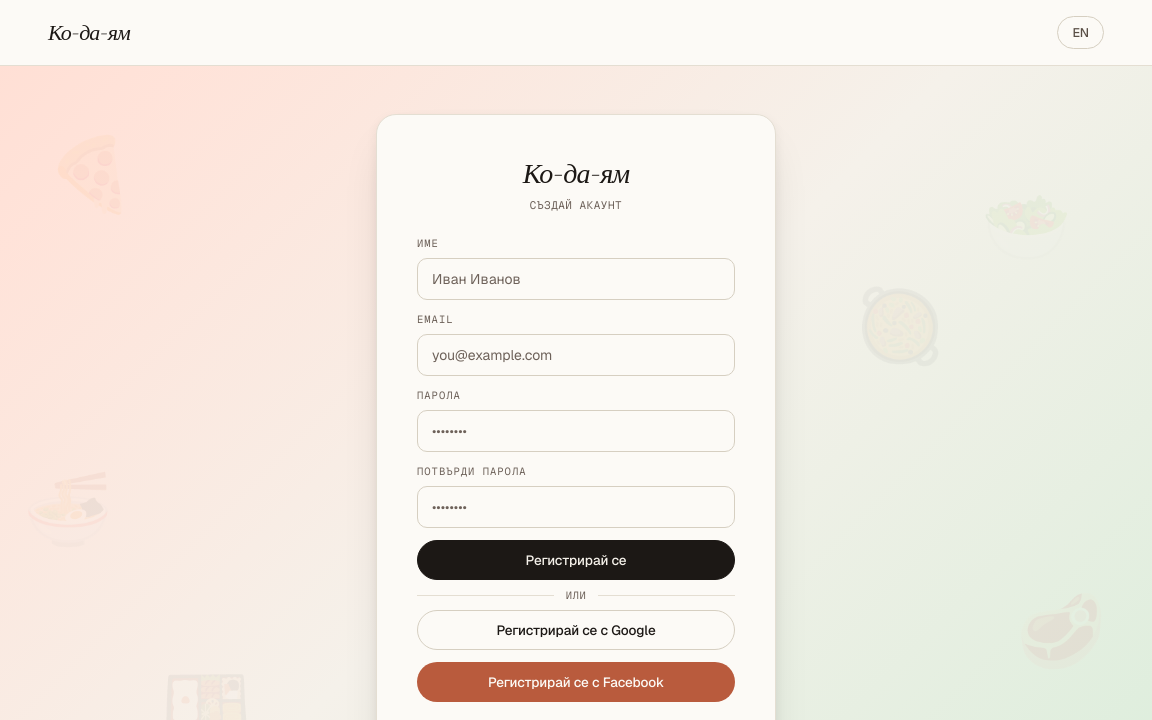
Scenario: RegisterScreen › shows confirmation screen when signUp returns no session (email confirmation required)
Step 1. Type "Иван" into the field with placeholder "Иван Иванов" → (576, 279), box [417,258,735,300]
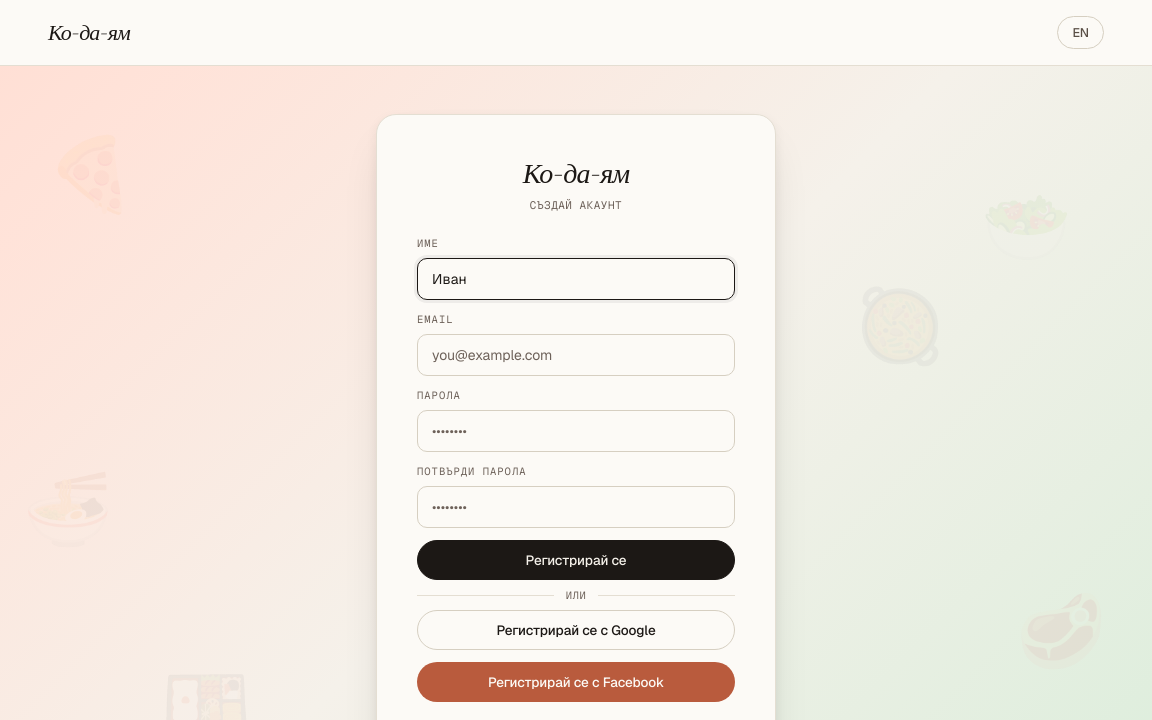
Step 2. Type "test@test.com" into the field with placeholder "you@example.com" → (576, 355), box [417,334,735,376]
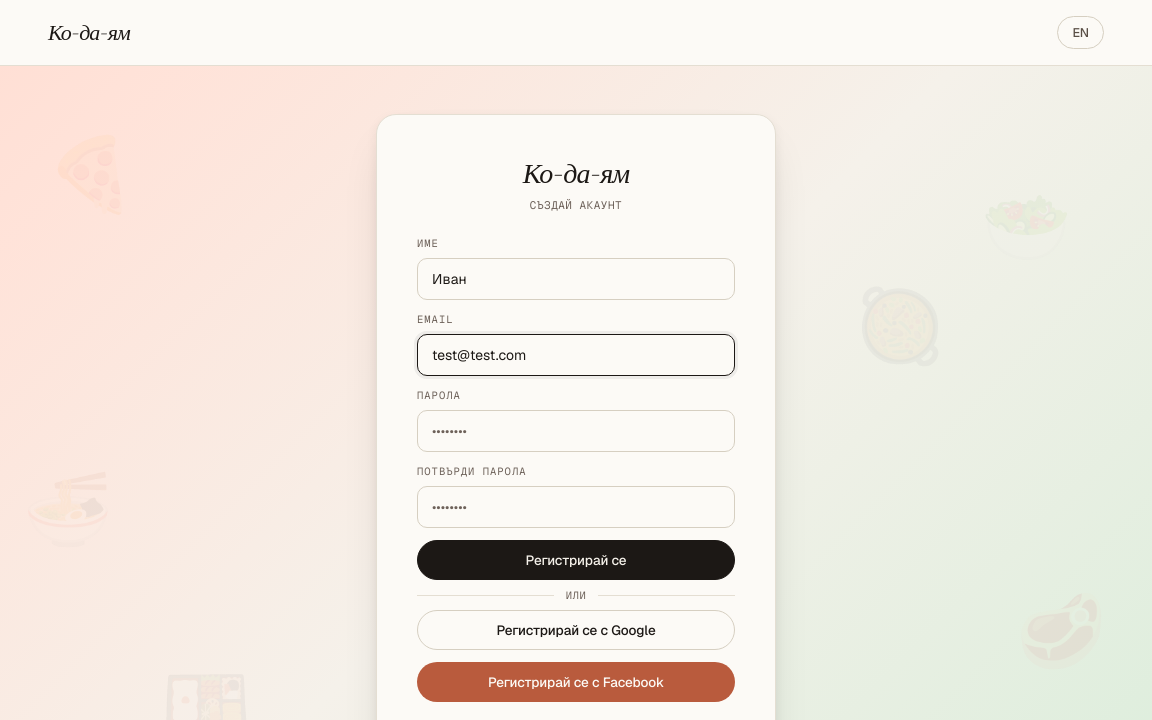
Step 3. Type "secret123" into the 1st password field with placeholder "••••••••" → (576, 431), box [417,410,735,452]
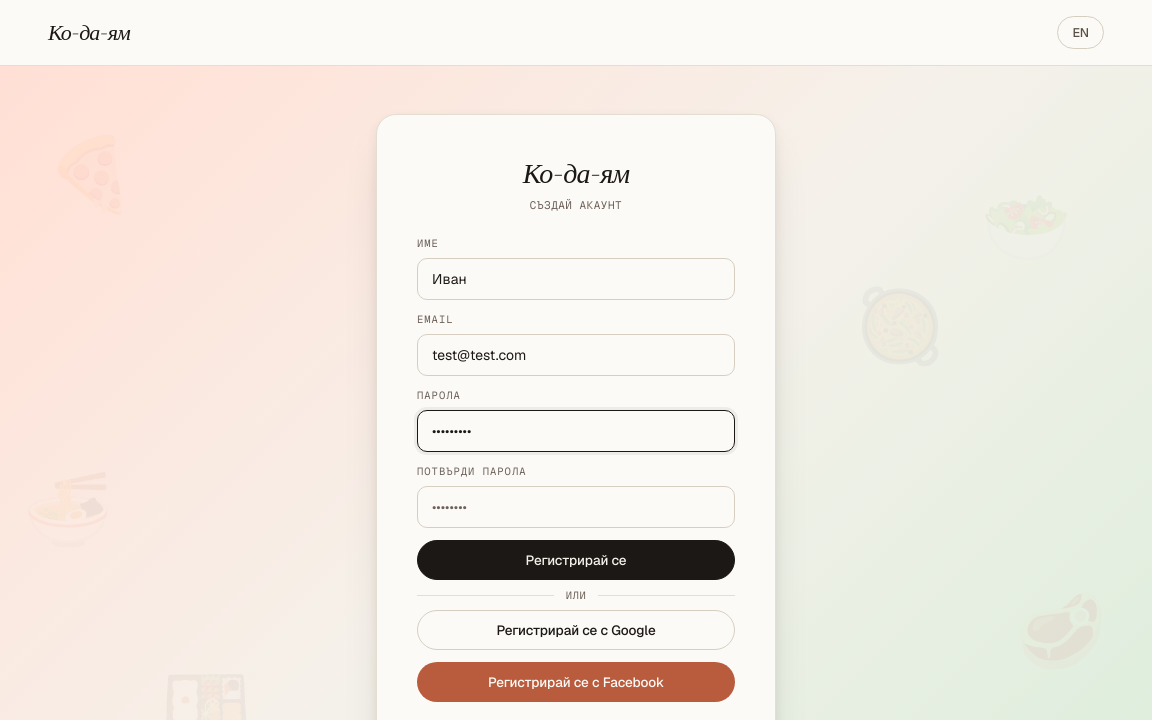
Step 4. Type "secret123" into the password field with placeholder "••••••••" → (576, 507), box [417,486,735,528]
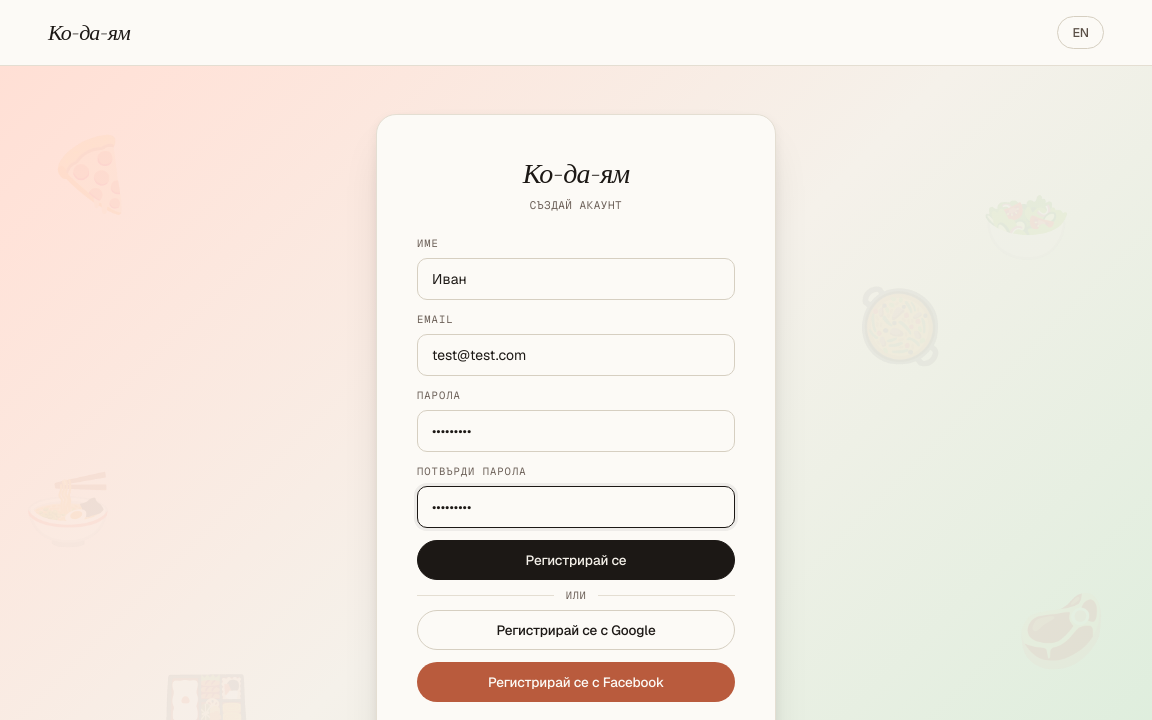
Step 5. Click the button "Регистрирай се" → (576, 560), box [417,540,735,580]
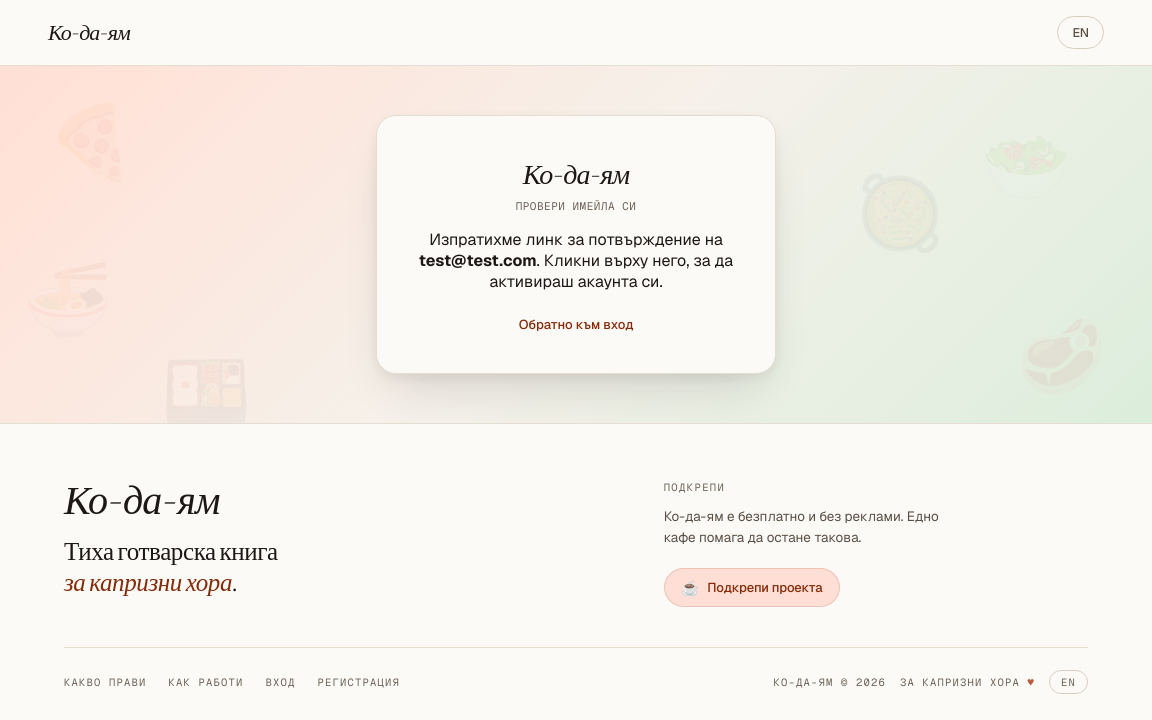
Now the text "Провери имейла си" is shown, box [516,199,636,213]
